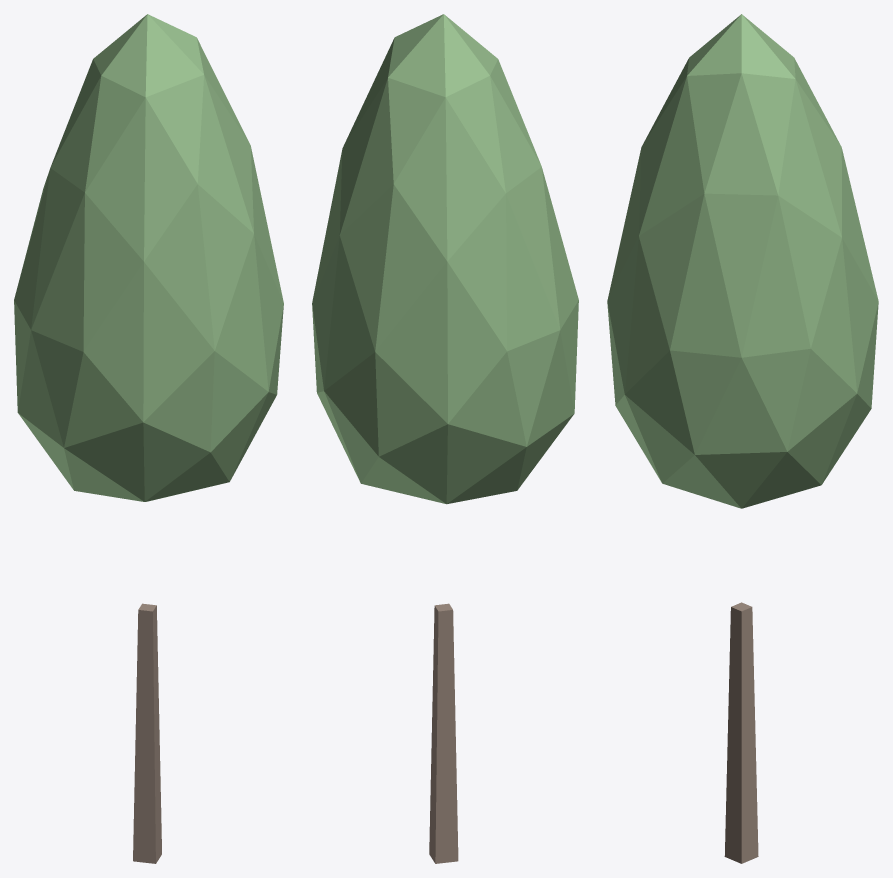
File: tree-conifer-b-far.glb
The picture shows the model from 3 angles, left to right: view 1: azimuth 30°, elevation 25°; view 2: azimuth 150°, elevation 25°; view 3: azimuth 270°, elevation 25°; orthographic projection.
Visible parts, largest first — view 1: tree-conifer-b-far; view 2: tree-conifer-b-far; view 3: tree-conifer-b-far.
Boxes of the visible parts, x1,y1,x2,y2 form: tree-conifer-b-far: (14, 14, 283, 863); tree-conifer-b-far: (312, 14, 578, 863); tree-conifer-b-far: (607, 14, 878, 863).
Bounding box in the file's own units: 0.2878 × 1 × 0.2919.
